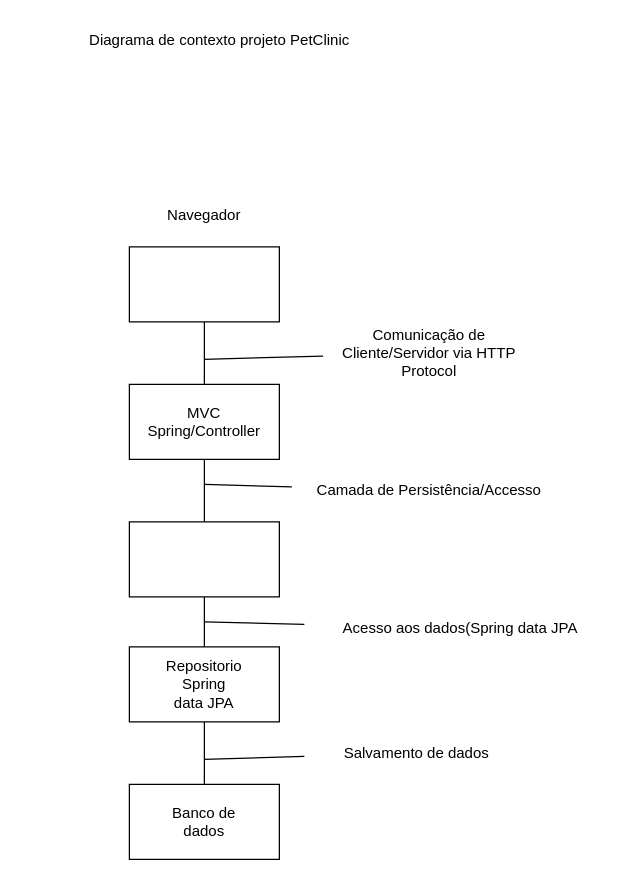
This 638x881 diagram has some shape labels left out. Here are the shapes that lost their labels. From the top down, the centre of each, then its label:
At point 203,284: "Client View".
At point 203,559: "Services".
